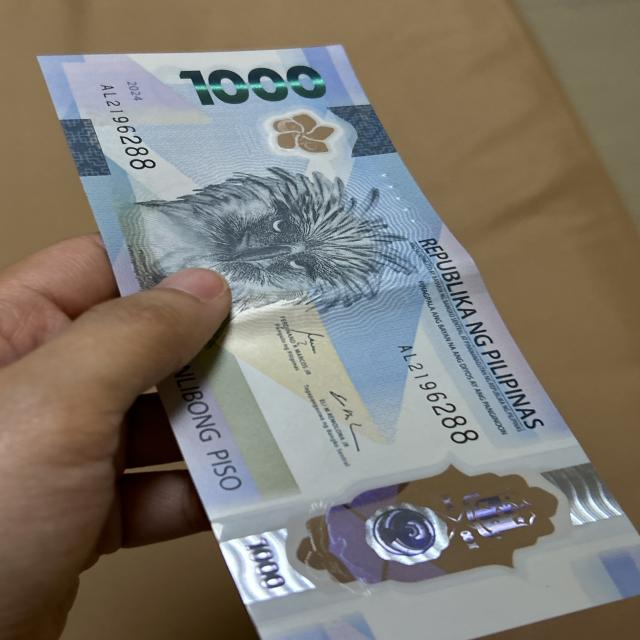clear_window: (249, 470, 617, 581)
eagle: (133, 173, 424, 304)
sampaguita: (260, 110, 342, 158)
